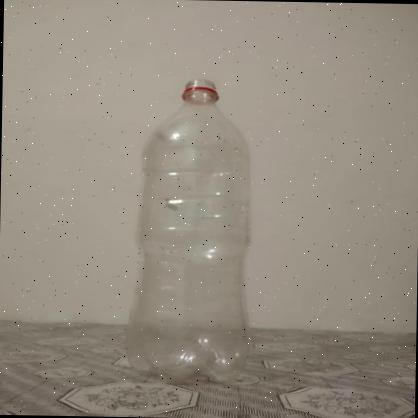bottle: (127, 75, 262, 387)
